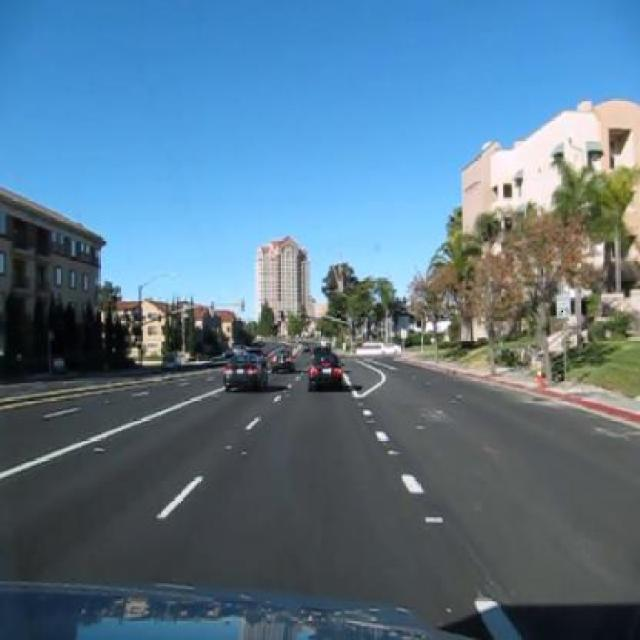speedLimit25: (556, 292, 572, 319)
